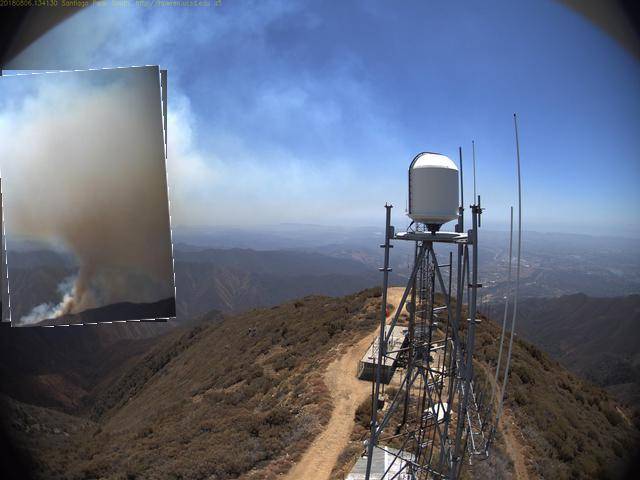smoke: (1, 68, 174, 327)
